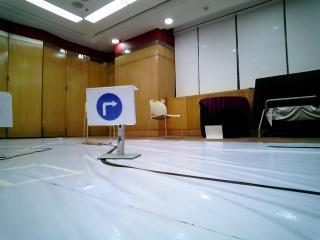right: (87, 92, 134, 121)
